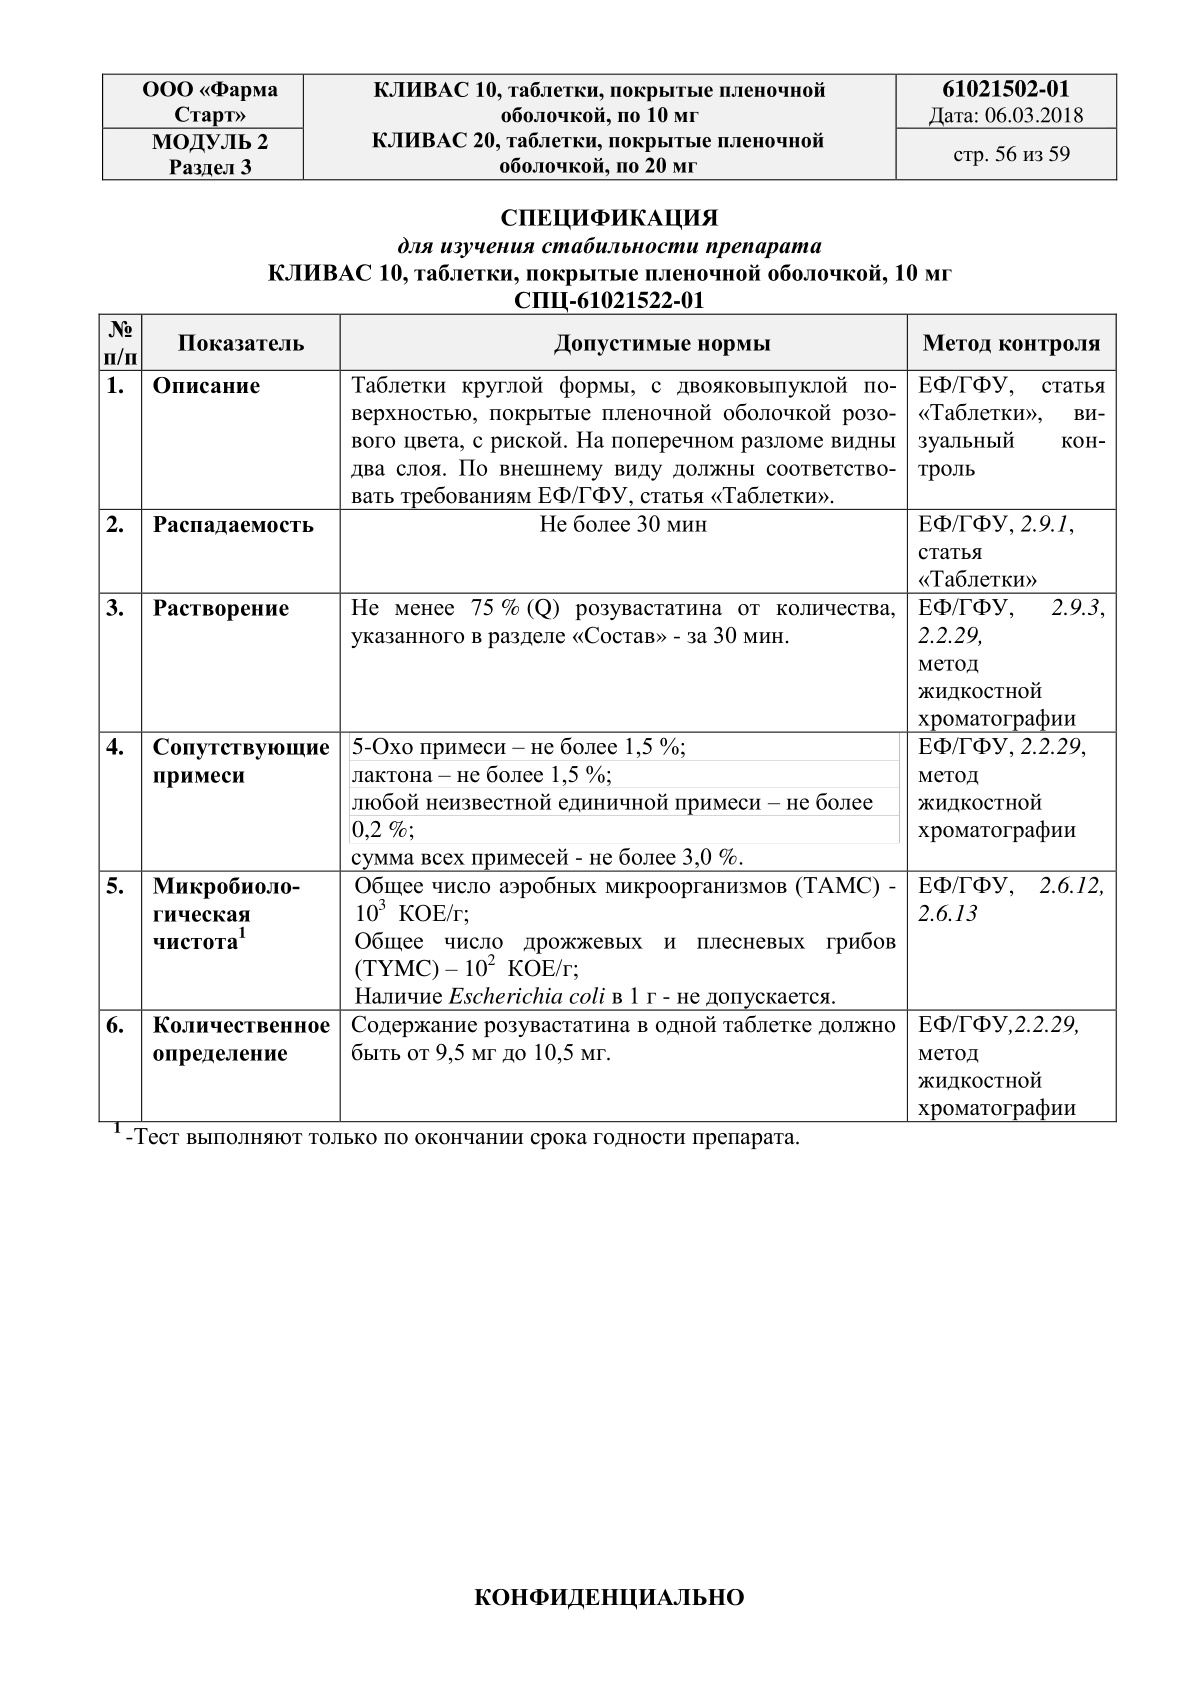full_lined: (98, 313, 1118, 1123)
merged_cells: (101, 73, 1118, 180)
